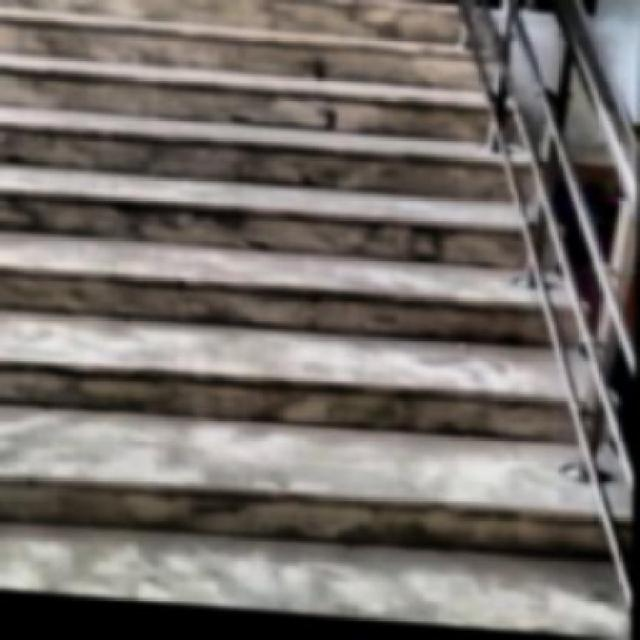stair: (2, 0, 582, 637)
